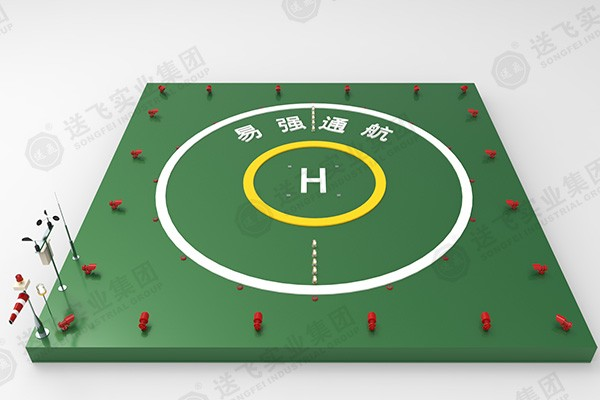H: (301, 169, 328, 194)
